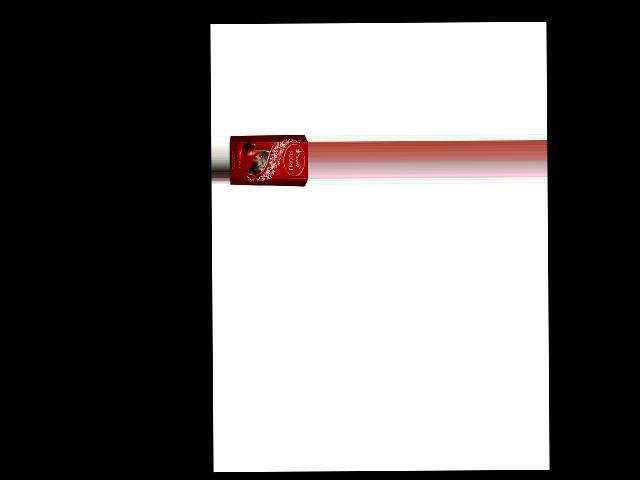chocolate: (229, 131, 307, 188)
